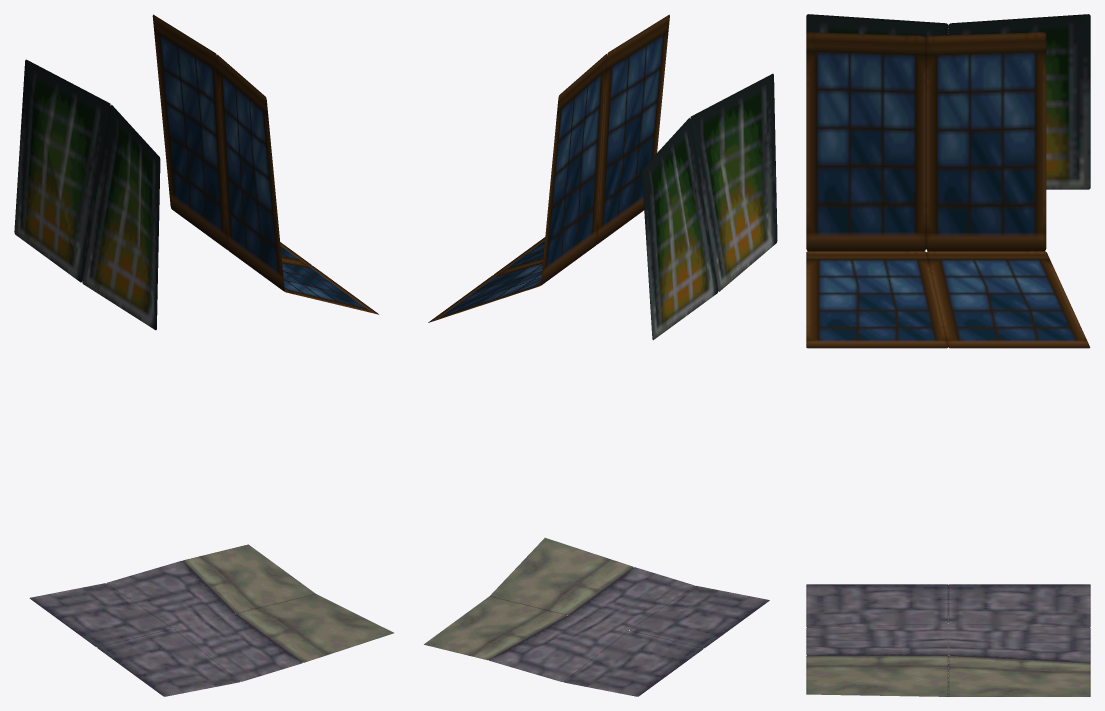
3 renders of one model, left to right at view 1: azimuth 30°, elevation 25°; view 2: azimuth 150°, elevation 25°; view 3: azimuth 270°, elevation 25°, orthographic. The views are drawn at different scales.
Parts seen in each view (by area): view 1: T1I0M000_0; view 2: T1I0M000_0; view 3: T1I0M000_0.
Part boxes in pixels (x1,y1,x2,y2): T1I0M000_0: [14, 14, 393, 696]; T1I0M000_0: [424, 14, 777, 696]; T1I0M000_0: [806, 14, 1090, 696].
Bounding box in the file's own units: 4.19 × 9.44 × 4.
